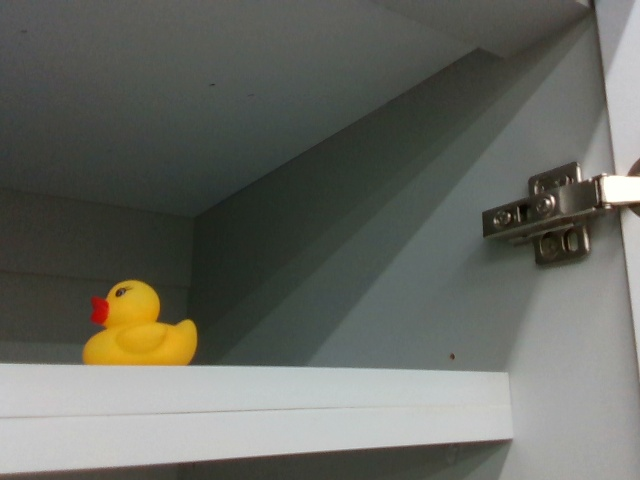duck: (75, 277, 199, 369)
